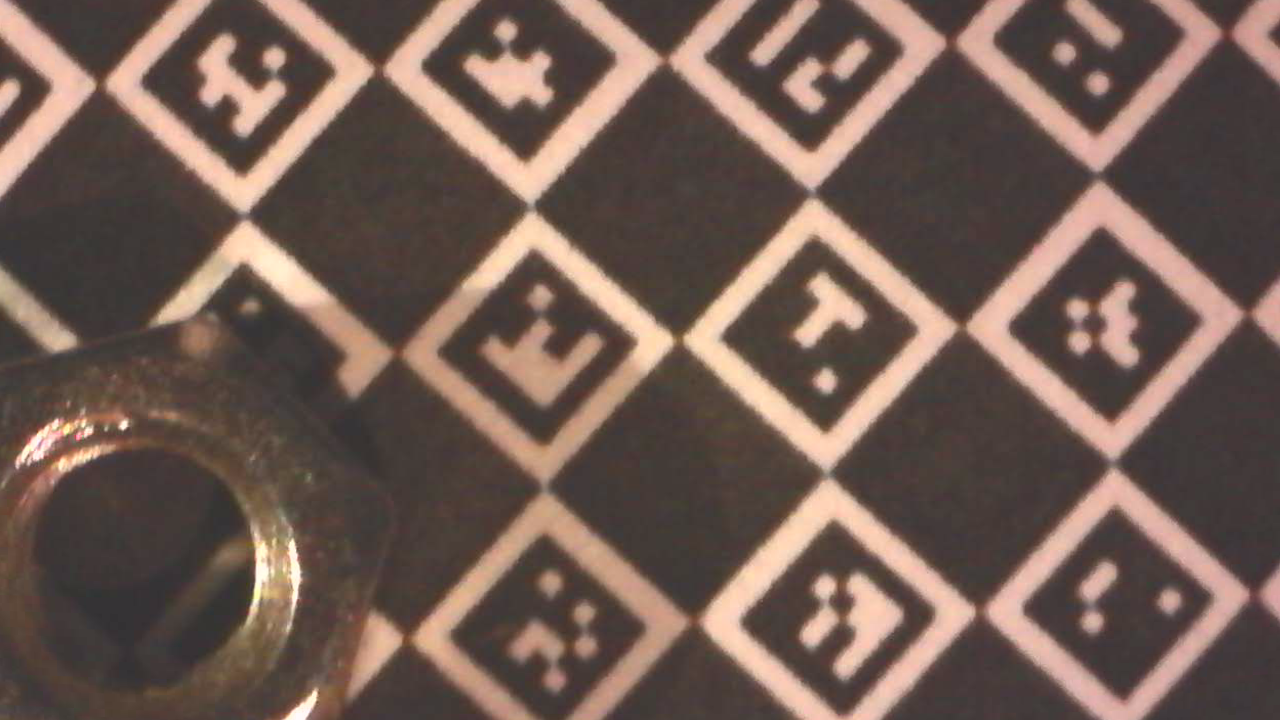Bolt: (0, 312, 409, 719)
